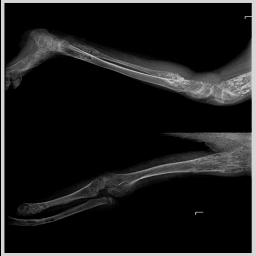cancer: (186, 140, 248, 174), (63, 173, 135, 198), (152, 72, 214, 101), (56, 38, 103, 62), (215, 72, 249, 100), (17, 202, 43, 215)
